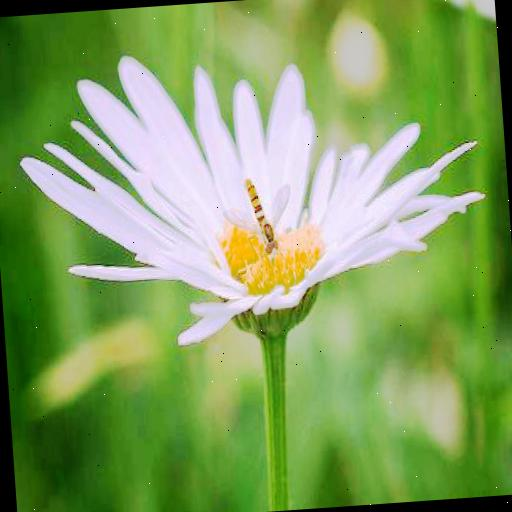daisy: (52, 59, 463, 342)
